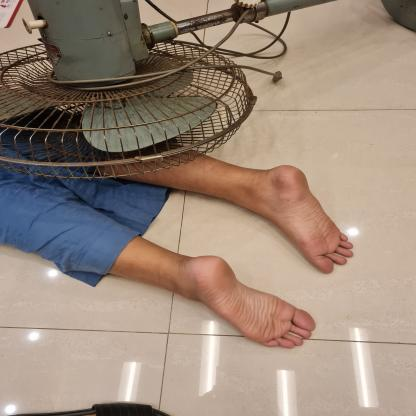leg: (112, 140, 365, 280), (110, 238, 328, 356)
